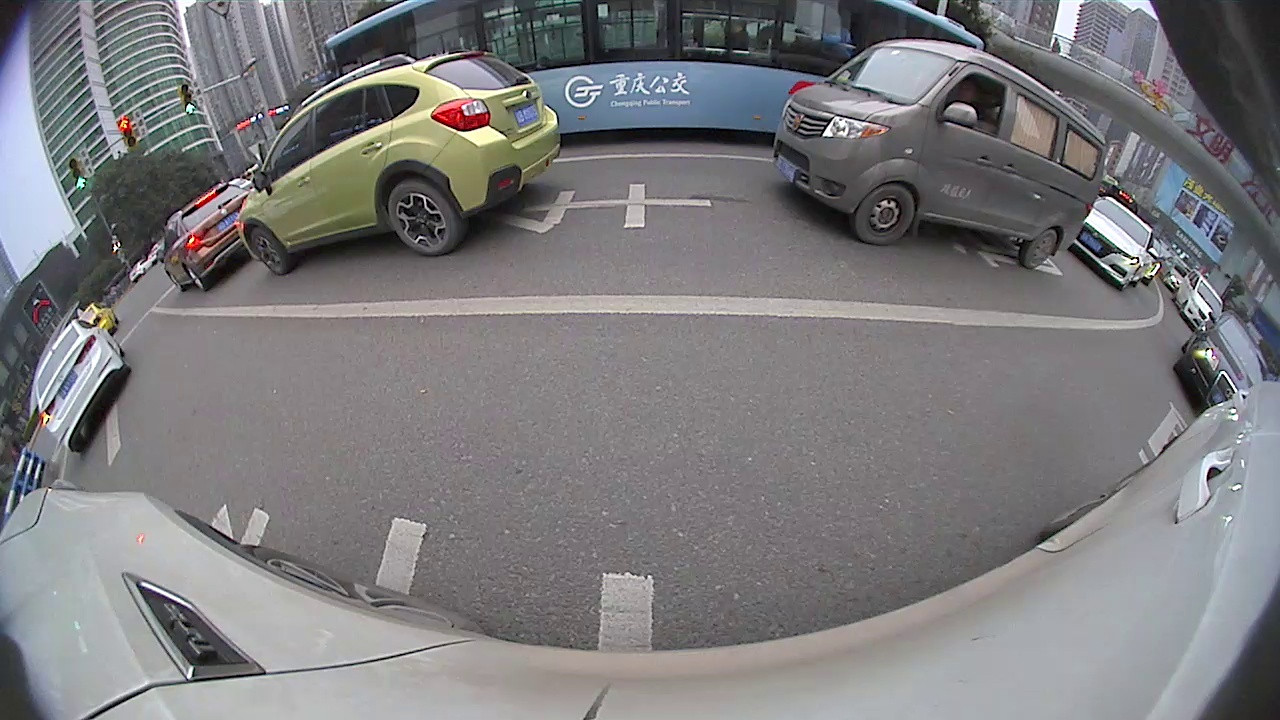bus: (316, 1, 987, 144)
car: (772, 38, 1110, 272), (236, 47, 562, 278), (33, 316, 131, 455), (1172, 298, 1267, 419), (161, 179, 260, 294), (1069, 196, 1158, 295), (1173, 268, 1225, 333)
front: (850, 183, 918, 248), (243, 223, 293, 280)
rear: (383, 176, 466, 260), (1019, 224, 1060, 273)
